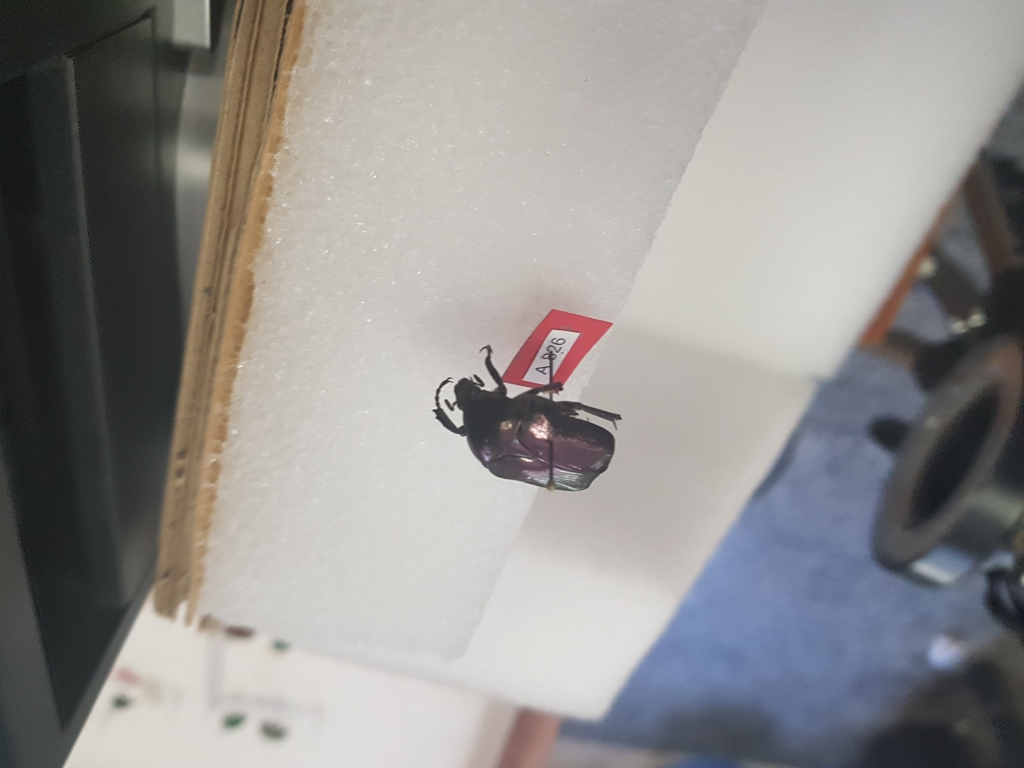Protaetia_besucheti: (436, 340, 625, 506)
